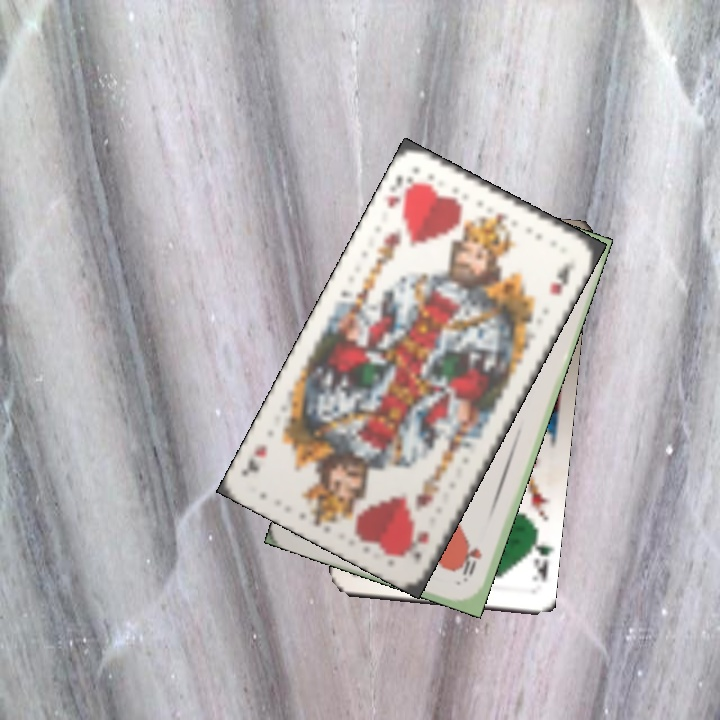GK: (525, 533, 552, 585)
HK: (381, 170, 419, 215), (410, 526, 433, 562)
HO: (458, 543, 485, 585)
